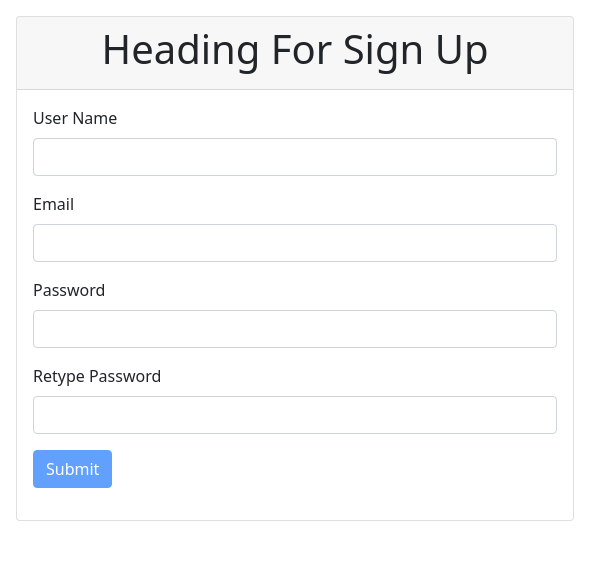
Test case: sign up page › interaction › display E-mail cannot be null for email
Type "mostafa" into the field labelled "User Name" at (295, 157), box [33,138,557,176]
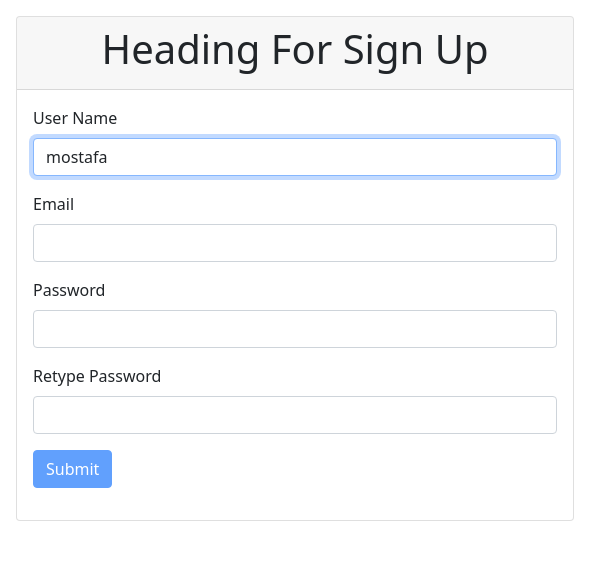
Type "mostafa@hotmail.com" into the field labelled "Email" at (295, 243), box [33,224,557,262]
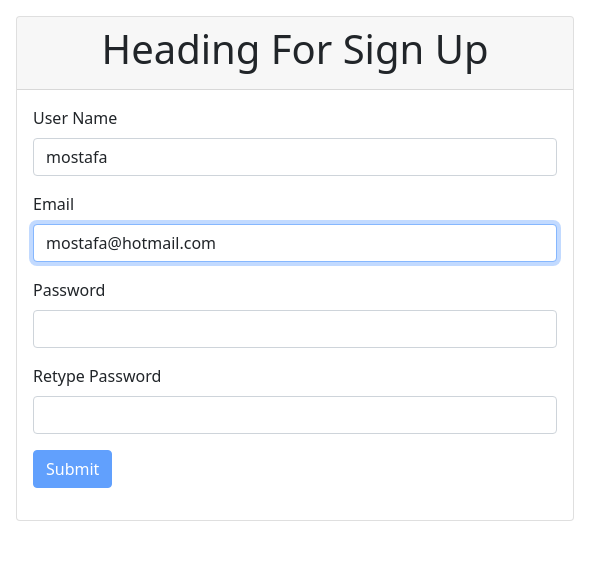
Type "passw8rd" into the password field labelled "Password" at (295, 329), box [33,310,557,348]
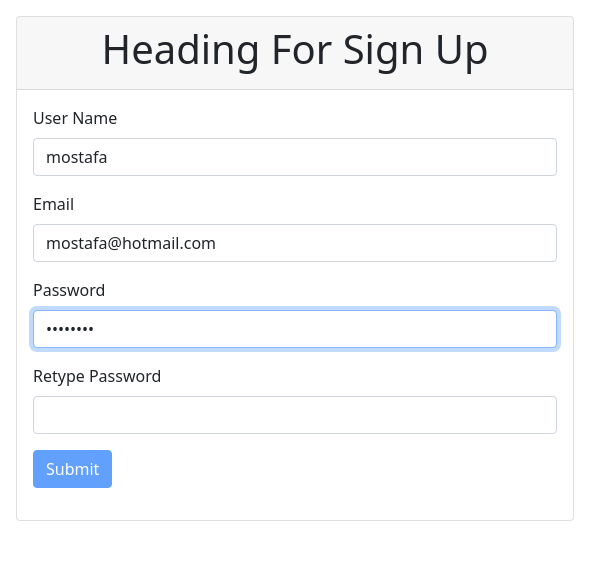
Type "passw8rd" into the password field labelled "Retype Password" at (295, 415), box [33,396,557,434]
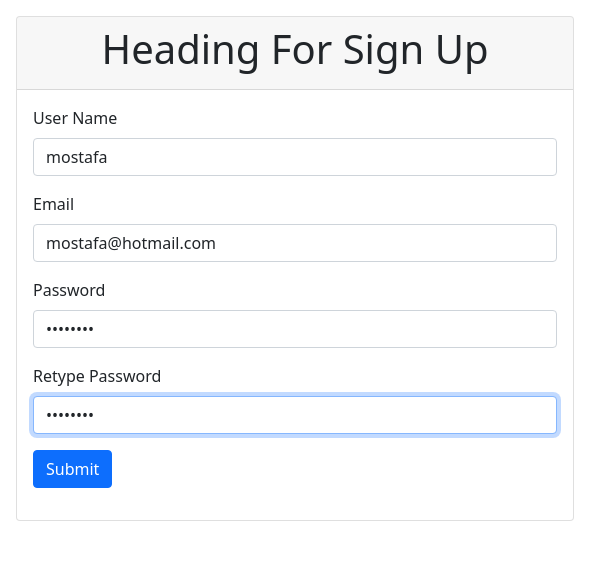
Click the button "Submit" at (73, 469), box [33,450,112,488]
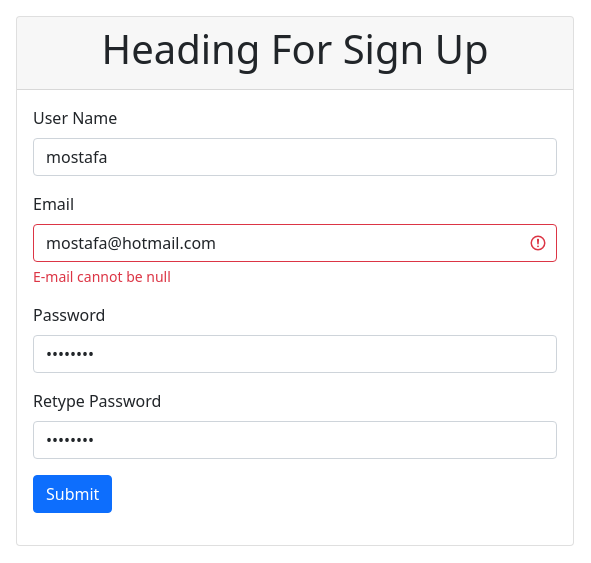
Check: the text "E-mail cannot be null" is shown, box [33,267,171,286]
